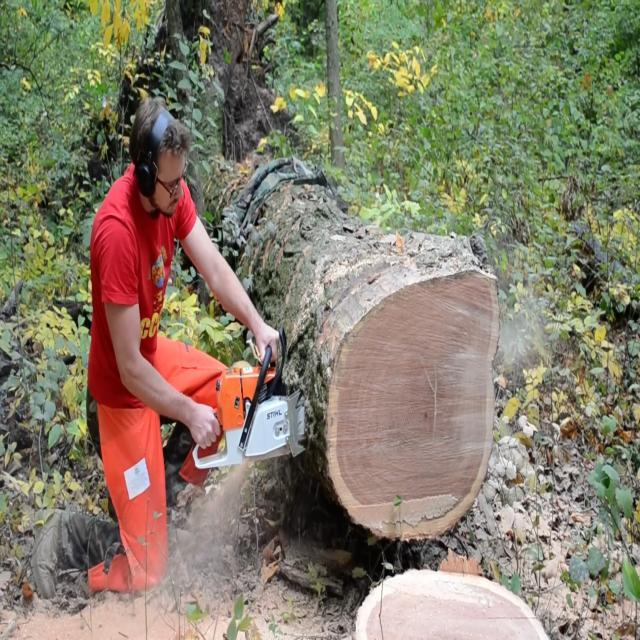Chainsaw: (174, 338, 324, 486)
